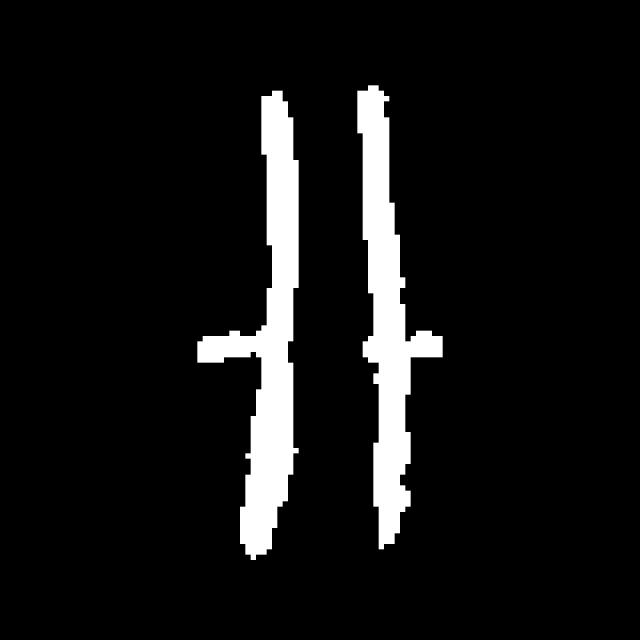capacitor: (236, 73, 418, 566)
